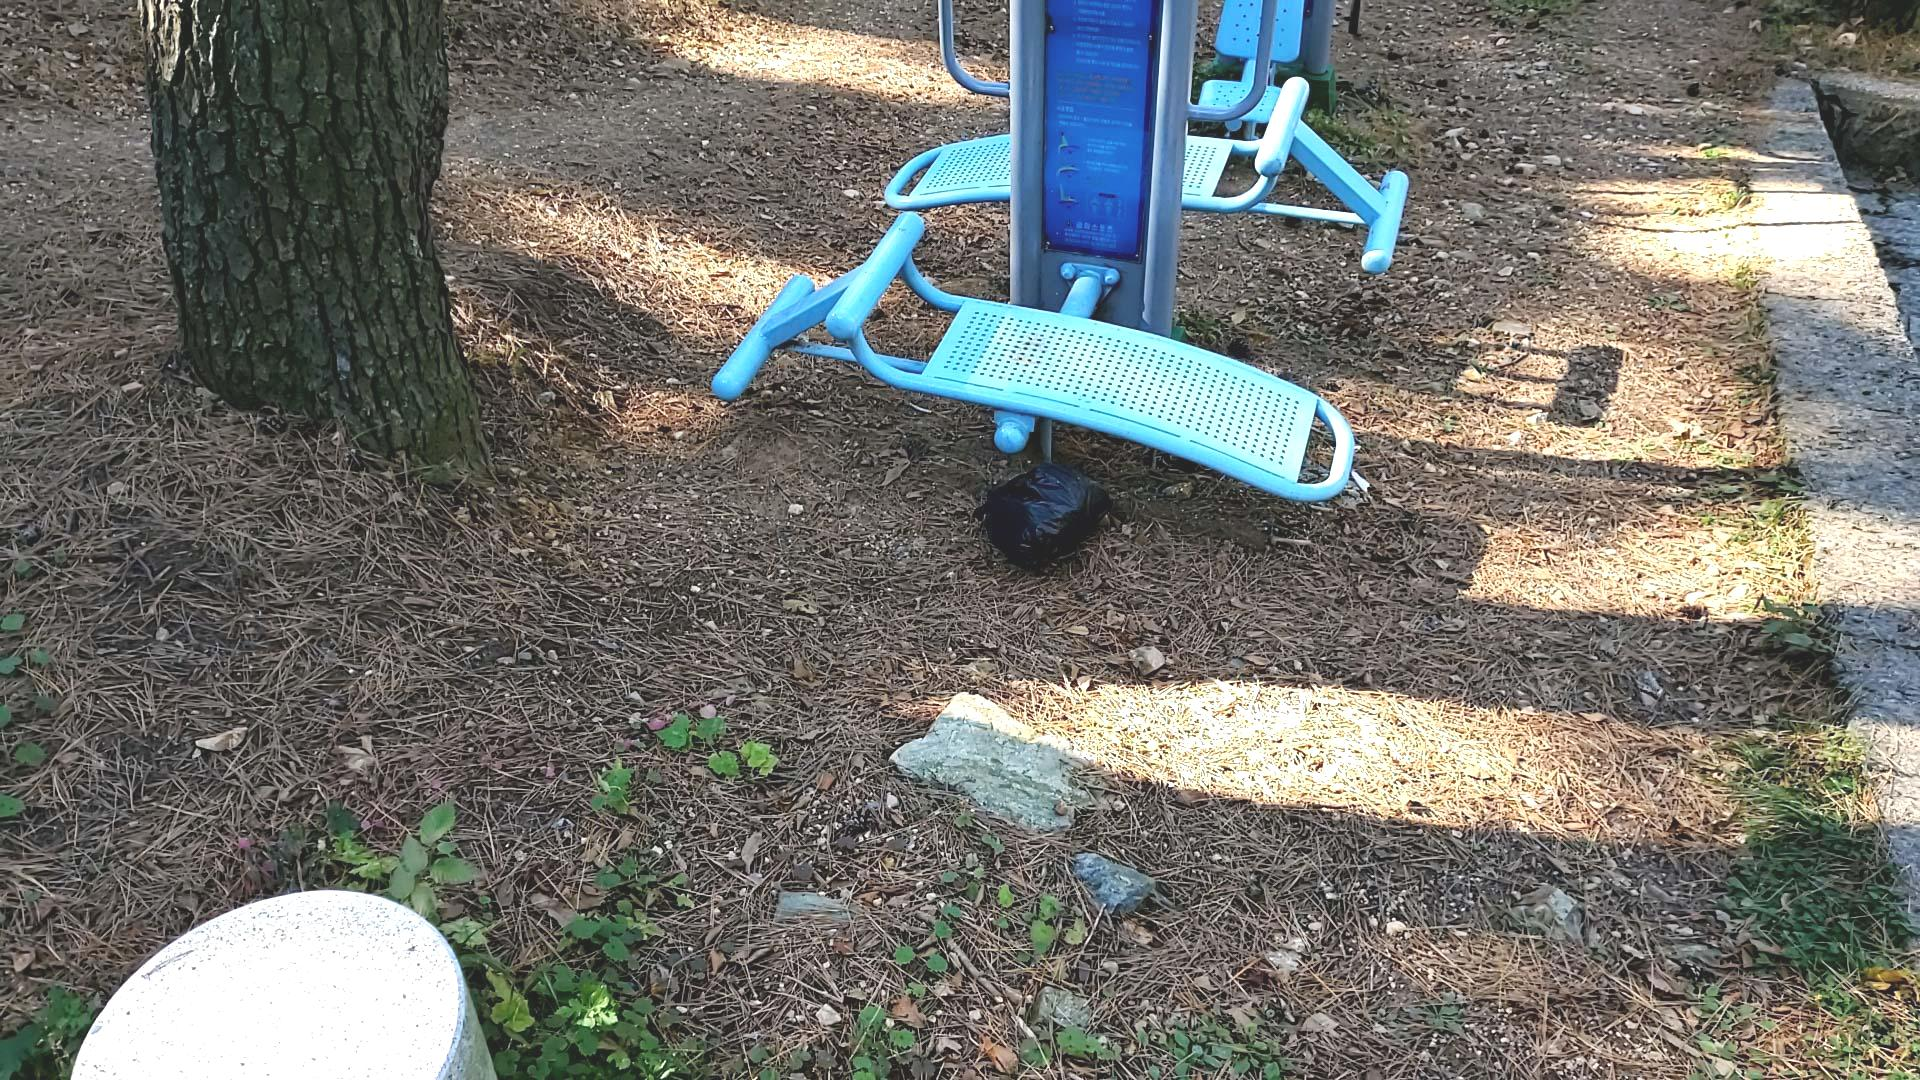black_bag: (969, 456, 1138, 571)
